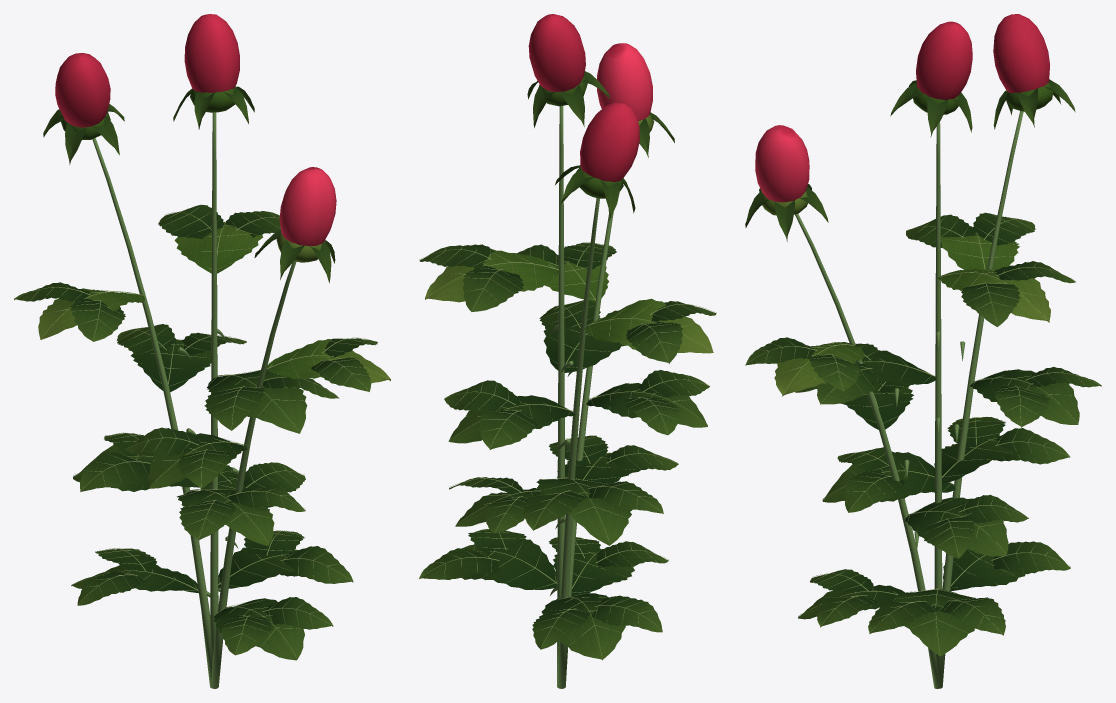
Rendered from rose-08.glb.
3 views of the same model, side by side, from view 1: azimuth 30°, elevation 25°; view 2: azimuth 150°, elevation 25°; view 3: azimuth 270°, elevation 25° (orthographic).
Parts seen in each view (by area): view 1: rose_stage_08_leaf_veins.014, rose_stage_08_rose_petal.014, rose_stage_08_stem_fibres.014, rose_stage_08_young_leaf.014, rose_stage_08_raised_midveins.014; view 2: rose_stage_08_leaf_veins.014, rose_stage_08_rose_petal.014, rose_stage_08_young_leaf.014, rose_stage_08_stem_fibres.014, rose_stage_08_raised_midveins.014; view 3: rose_stage_08_leaf_veins.014, rose_stage_08_rose_petal.014, rose_stage_08_stem_fibres.014, rose_stage_08_young_leaf.014, rose_stage_08_raised_midveins.014.
Part boxes in pixels (x1=…): rose_stage_08_leaf_veins.014: x1=14, y1=86, x2=377, y2=660; rose_stage_08_rose_petal.014: x1=55, y1=14, x2=336, y2=246; rose_stage_08_stem_fibres.014: x1=92, y1=112, x2=296, y2=688; rose_stage_08_young_leaf.014: x1=38, y1=86, x2=390, y2=383; rose_stage_08_raised_midveins.014: x1=15, y1=206, x2=387, y2=657; rose_stage_08_leaf_veins.014: x1=419, y1=71, x2=716, y2=660; rose_stage_08_rose_petal.014: x1=528, y1=14, x2=652, y2=182; rose_stage_08_young_leaf.014: x1=425, y1=76, x2=713, y2=353; rose_stage_08_stem_fibres.014: x1=549, y1=106, x2=613, y2=688; rose_stage_08_raised_midveins.014: x1=419, y1=243, x2=716, y2=658; rose_stage_08_leaf_veins.014: x1=745, y1=79, x2=1101, y2=656; rose_stage_08_rose_petal.014: x1=755, y1=14, x2=1049, y2=202; rose_stage_08_stem_fibres.014: x1=795, y1=111, x2=1023, y2=688; rose_stage_08_young_leaf.014: x1=762, y1=82, x2=1053, y2=396; rose_stage_08_raised_midveins.014: x1=746, y1=214, x2=1099, y2=655.
Size of the model in its own units: 0.2993 by 0.6648 by 0.3229.
Materials: 5 (3 with a texture image).
